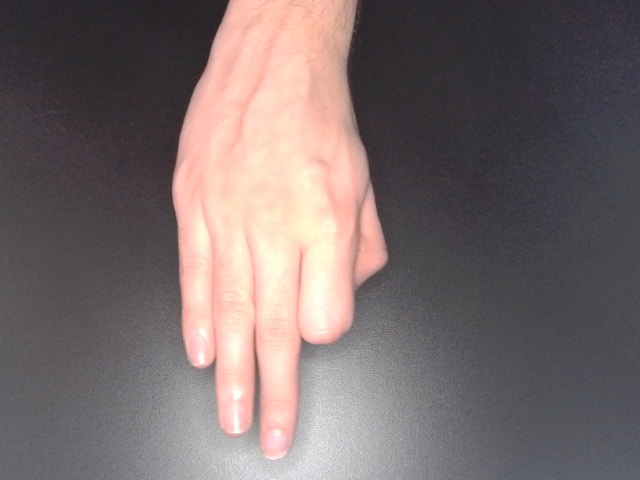m: (161, 1, 396, 466)
